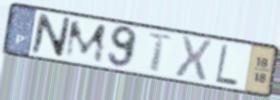9: (107, 24, 141, 71)
L: (214, 42, 240, 88)
M: (62, 19, 109, 65)
N: (29, 12, 73, 60)
T: (145, 31, 175, 75)
X: (173, 34, 214, 83)
